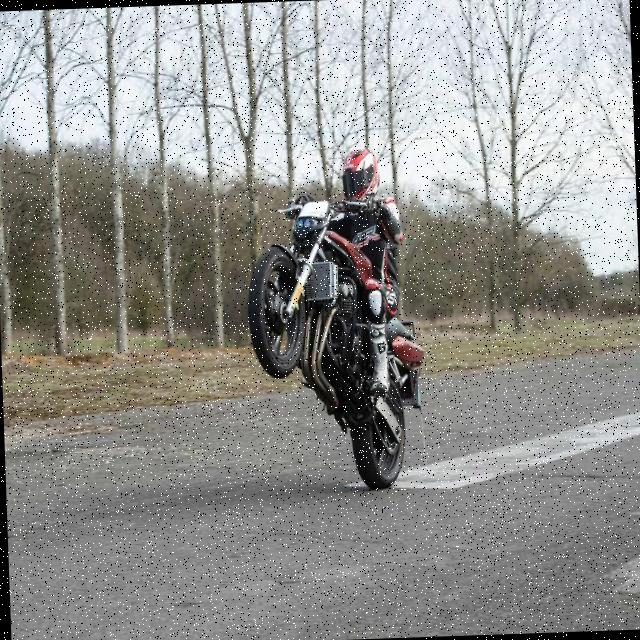Wheeling: (234, 132, 428, 499)
